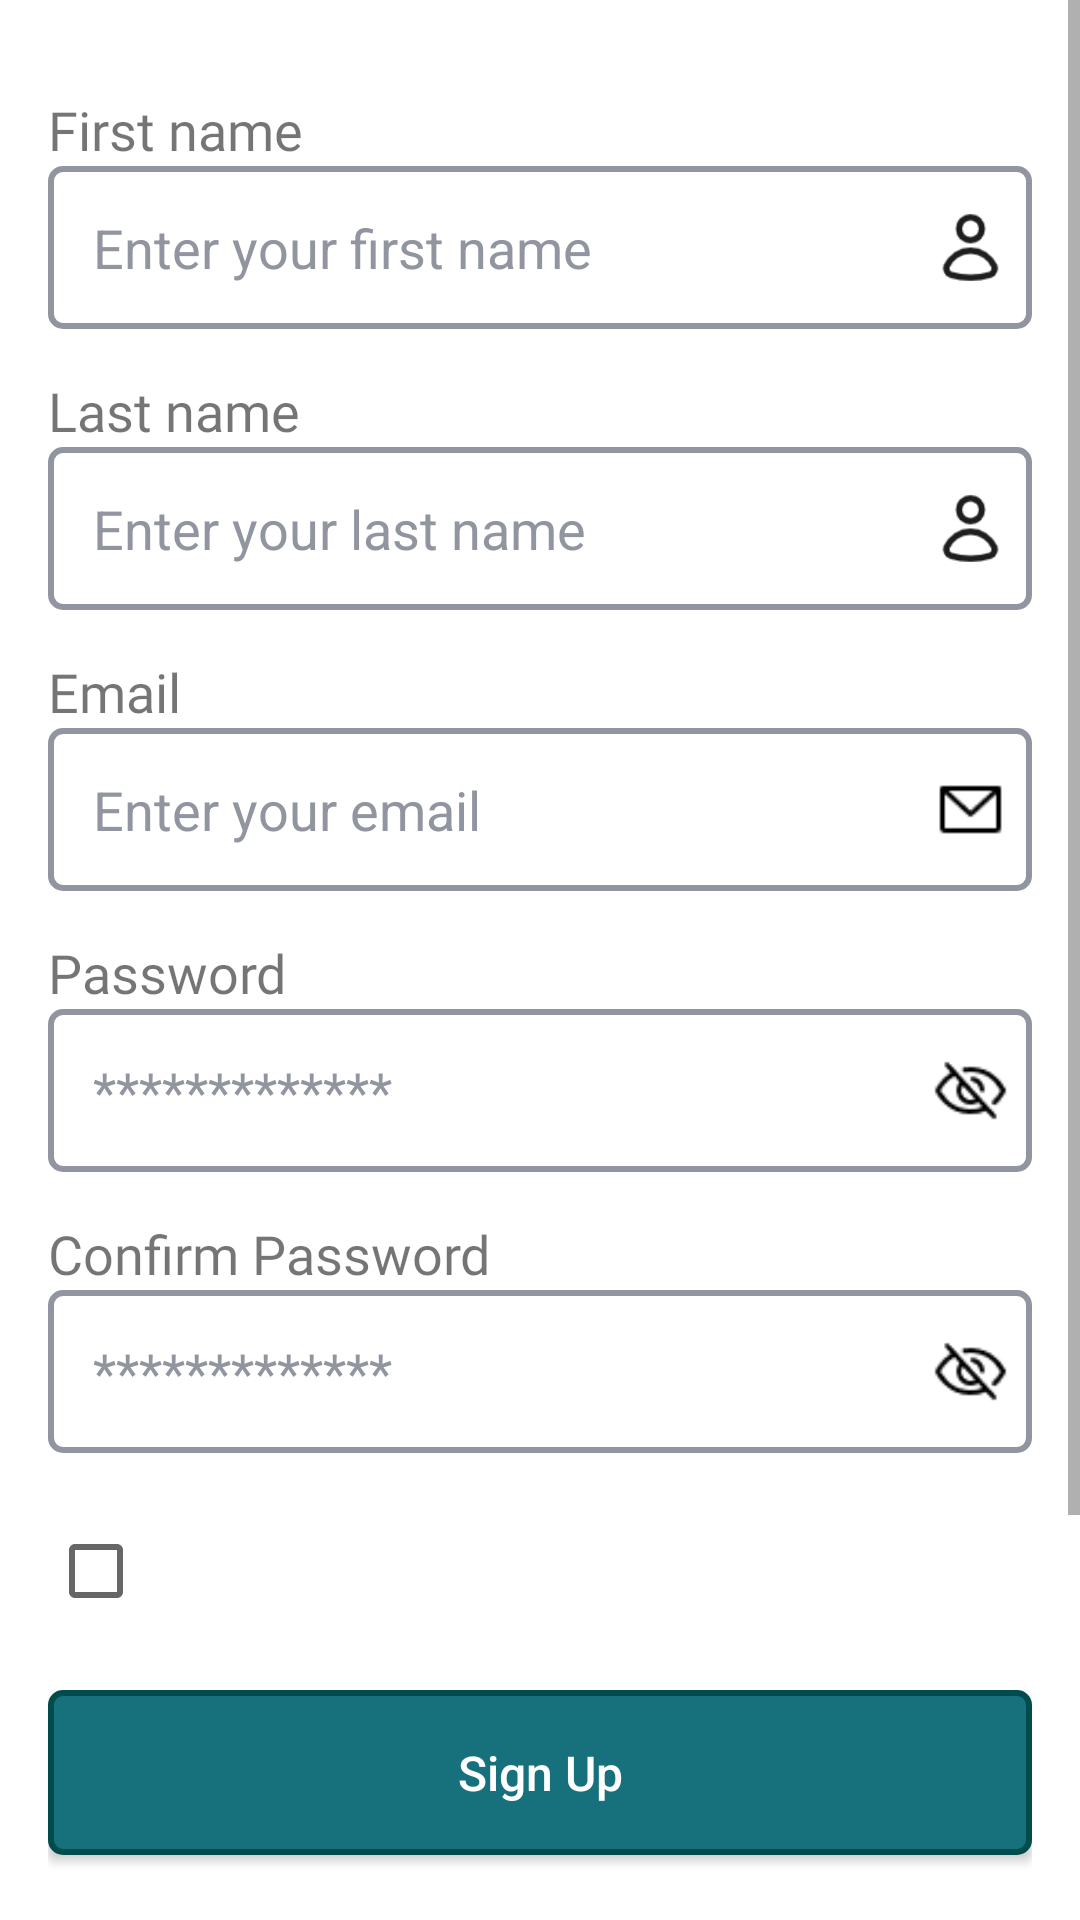

Named icons in this screenshot (1080x1920) and their bounding boxes, (x1, y1, x2, y2):
password close: (934, 1062, 1007, 1119), (934, 1343, 1007, 1400)
user: (942, 214, 999, 281), (942, 495, 999, 562)
